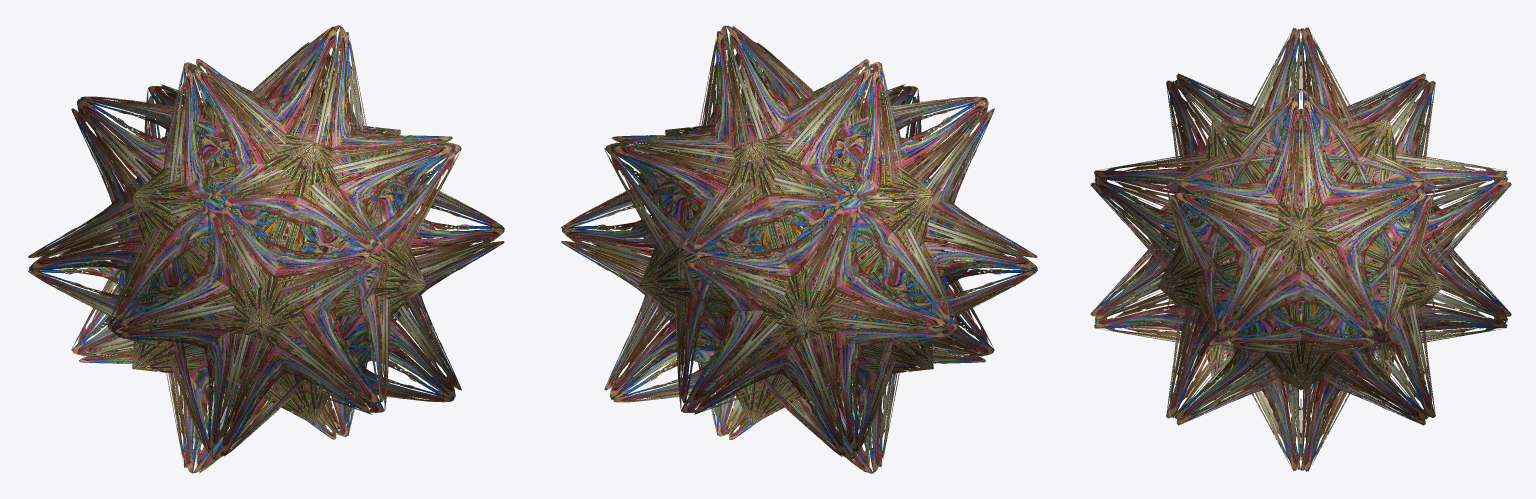
Rendered from GreatIcosacronicHexecontahedron9.gltf.
3 renders of one model, left to right at view 1: azimuth 30°, elevation 25°; view 2: azimuth 150°, elevation 25°; view 3: azimuth 270°, elevation 25°, orthographic. The views are drawn at different scales.
Parts seen in each view (by area): view 1: GreatIcosacronicHexecontahedron9; view 2: GreatIcosacronicHexecontahedron9; view 3: GreatIcosacronicHexecontahedron9.
Boxes of the visible parts, x1,y1,x2,y2 form: GreatIcosacronicHexecontahedron9: [28, 25, 504, 473]; GreatIcosacronicHexecontahedron9: [561, 25, 1037, 473]; GreatIcosacronicHexecontahedron9: [1090, 27, 1511, 471].
Bounding box in the file's own units: 3.62 × 3.62 × 3.62.
1 material, 1 textured.
